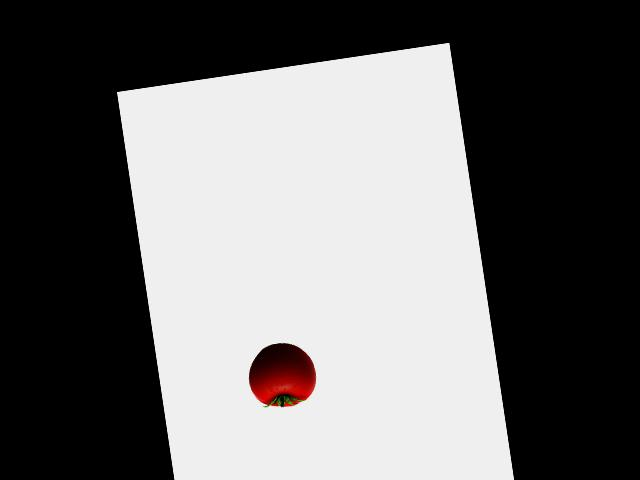tomato: (244, 339, 312, 411)
